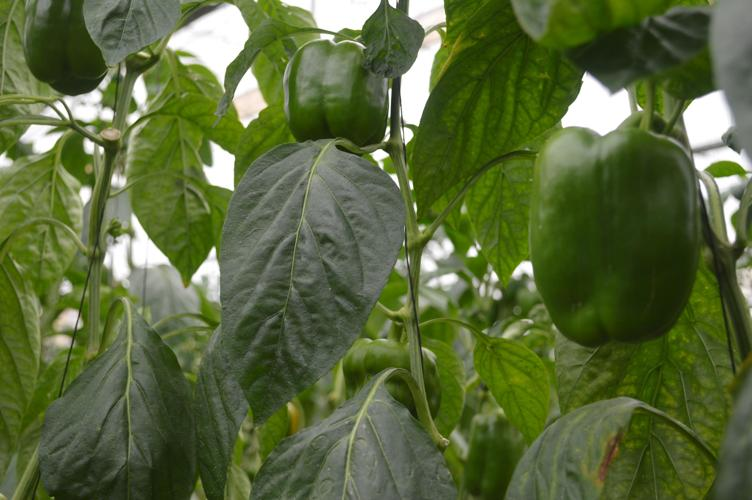BellPepper: (528, 126, 704, 335), (276, 40, 386, 146), (15, 10, 111, 96), (347, 342, 442, 418), (459, 412, 525, 493)
